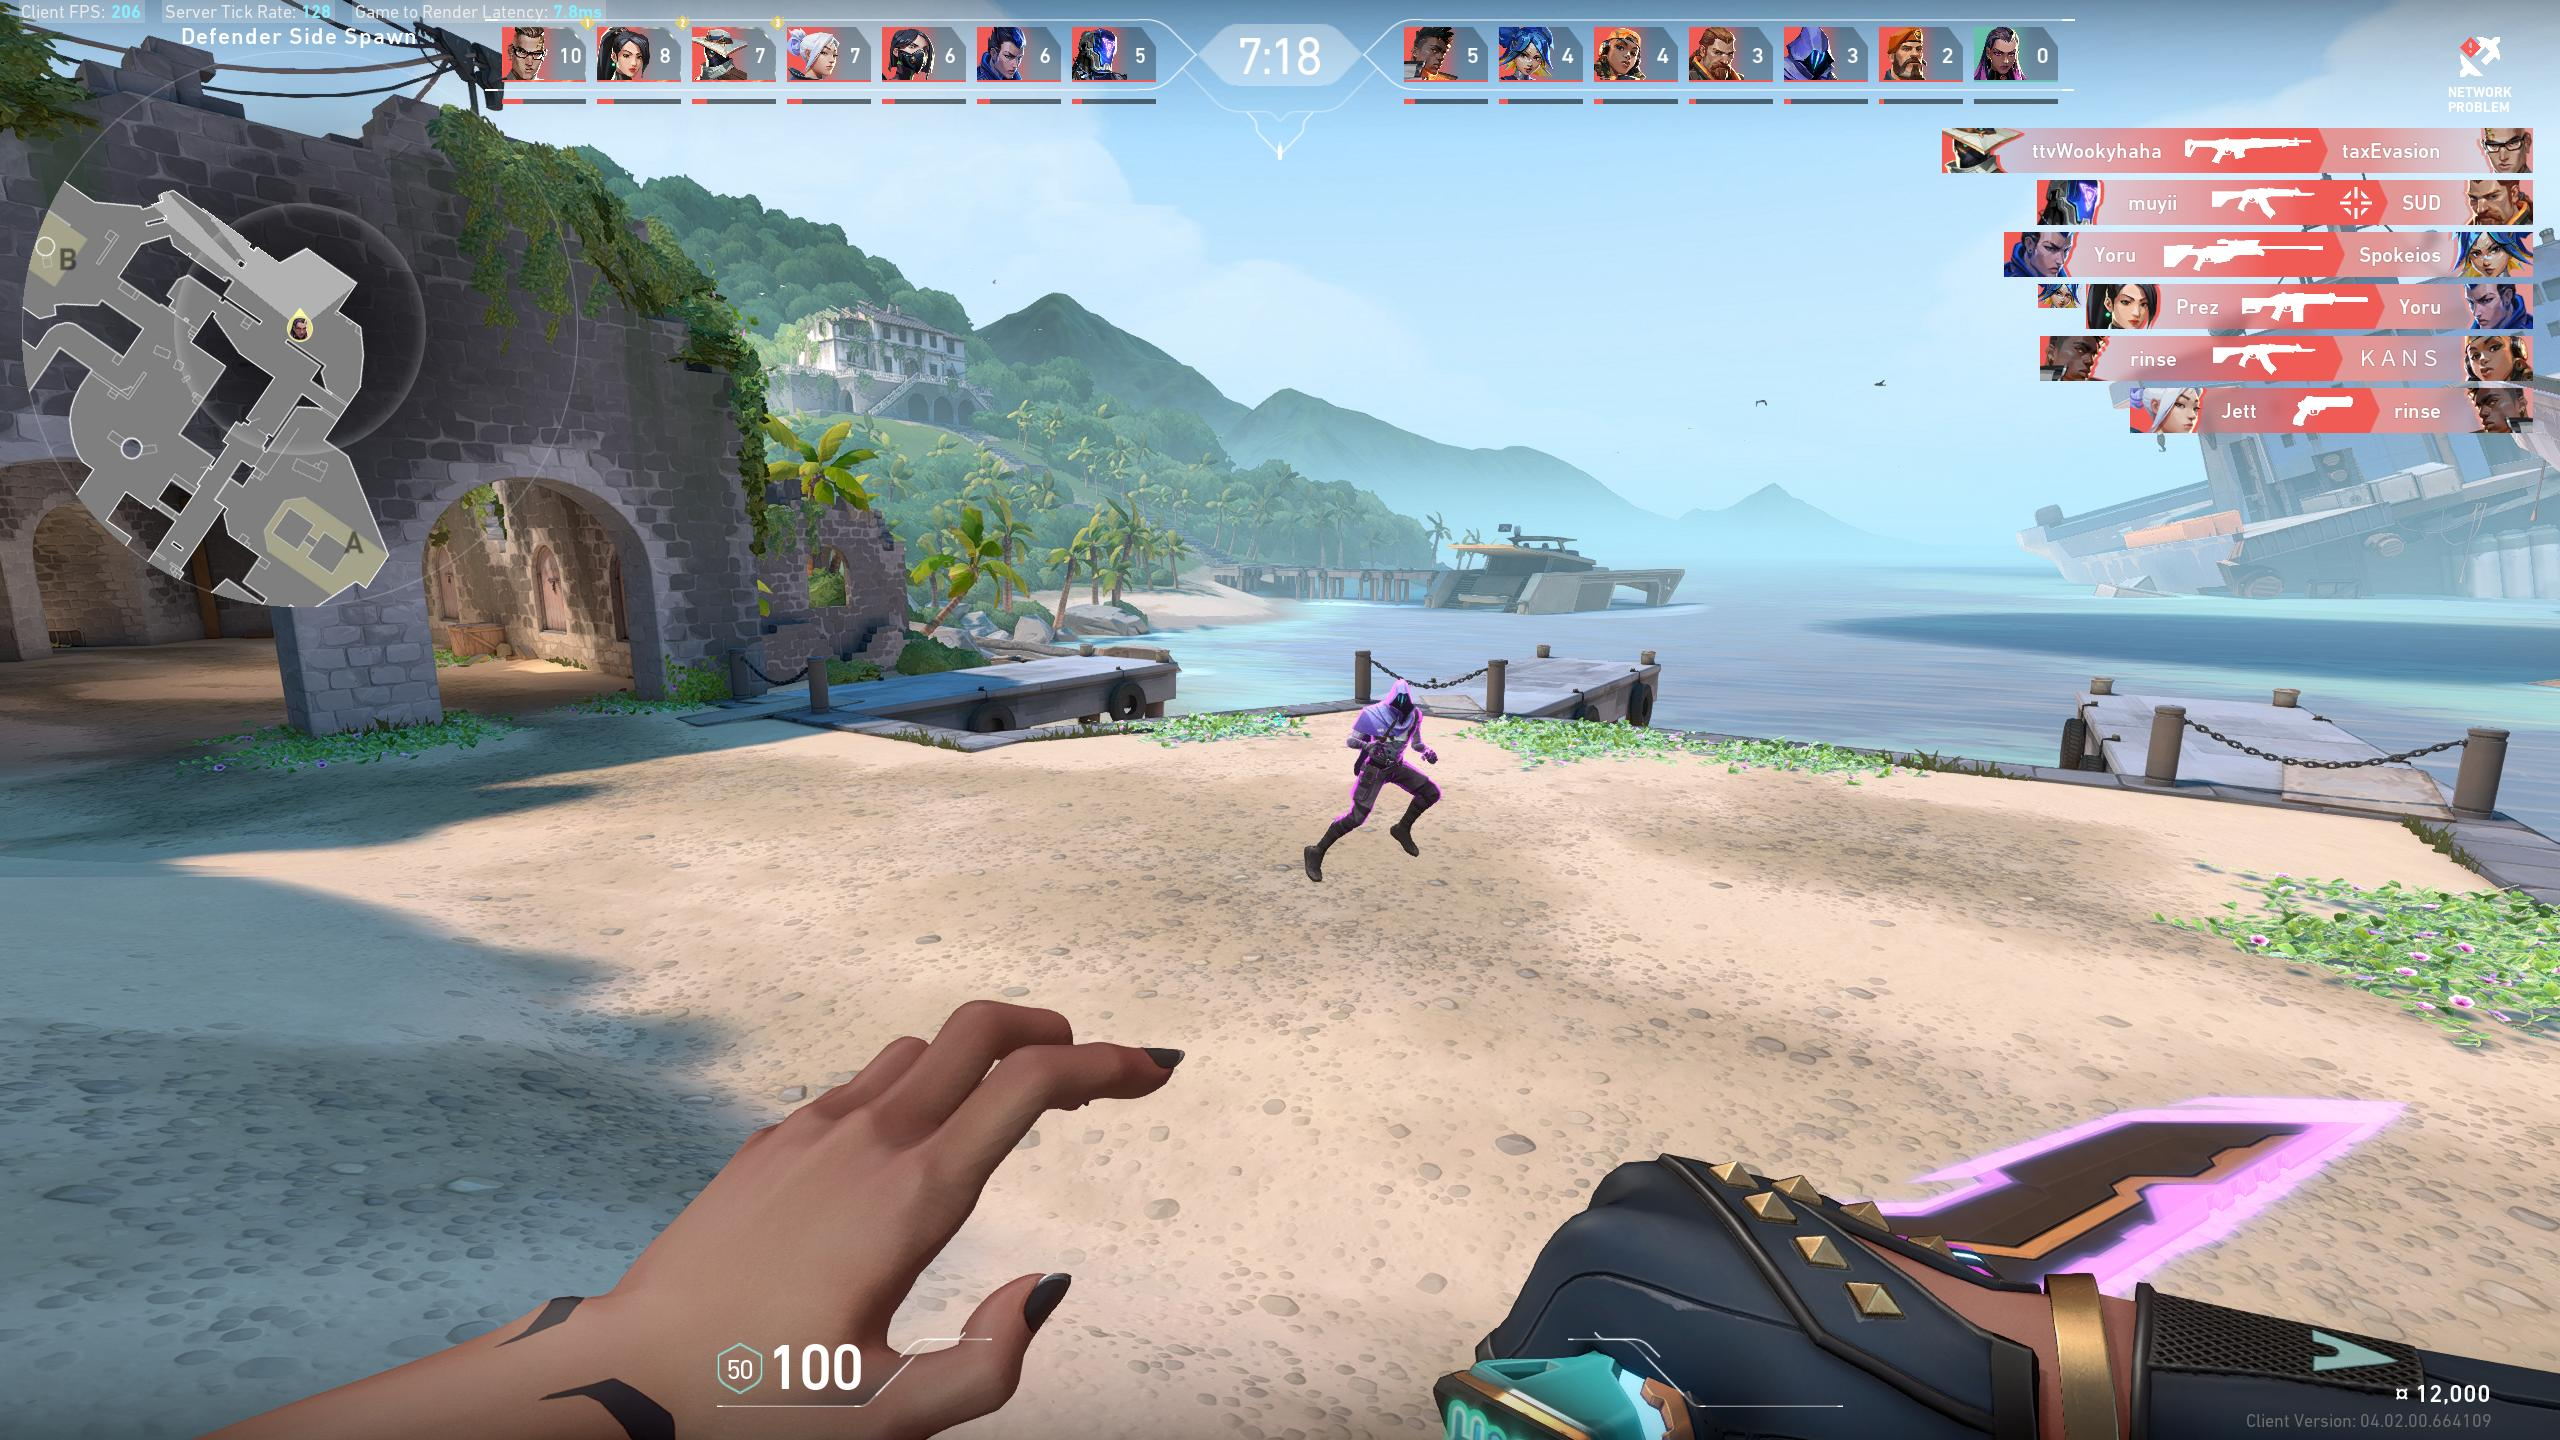enemyBody: (1375, 714, 1401, 775)
enemyHead: (1394, 691, 1408, 707)
